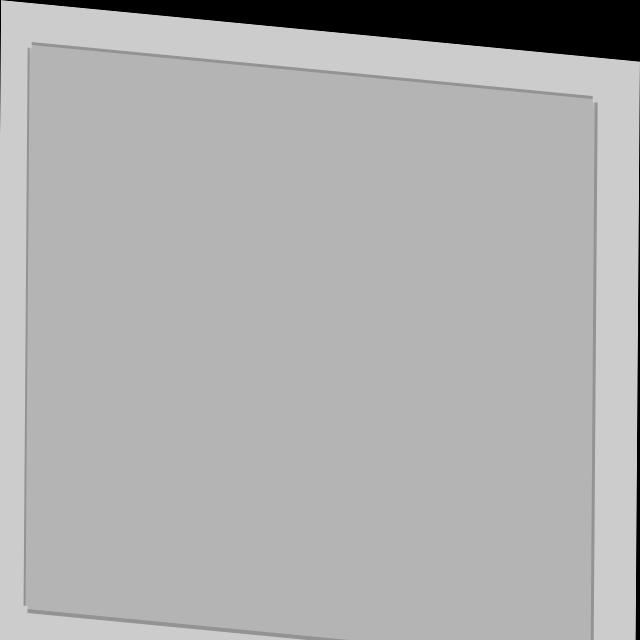qr_code: (25, 44, 594, 640)
